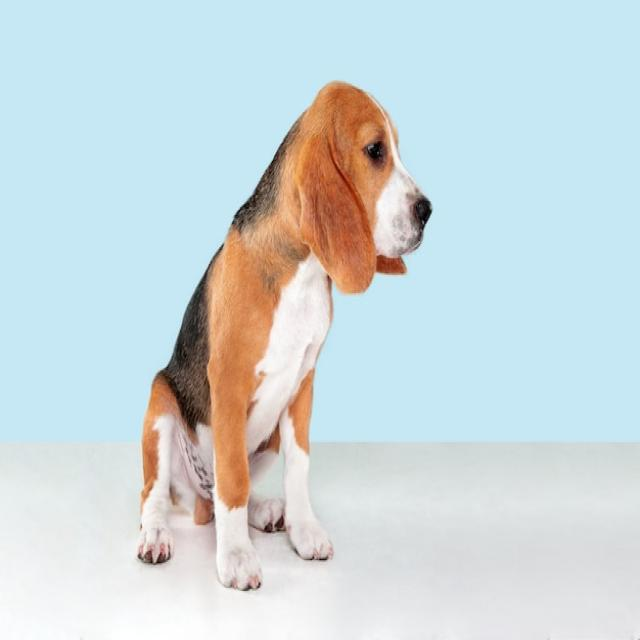Dog: (137, 80, 433, 591)
